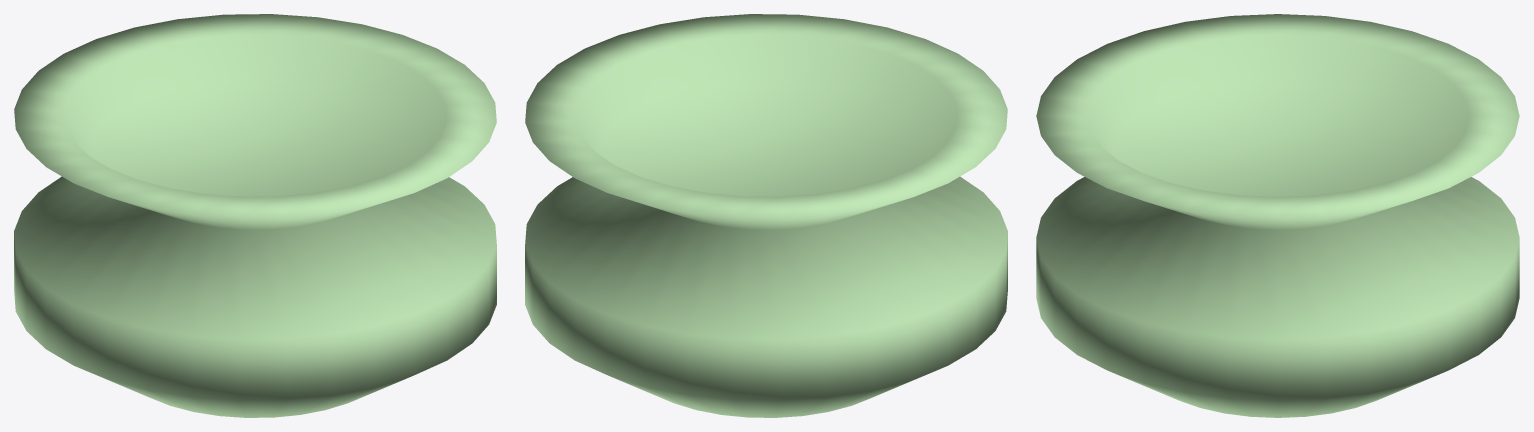
The model's file is Vase1.fbx.
3 views of the same model, side by side, from view 1: azimuth 30°, elevation 25°; view 2: azimuth 150°, elevation 25°; view 3: azimuth 270°, elevation 25° (orthographic).
Parts seen in each view (by area): view 1: Cylinder.006; view 2: Cylinder.006; view 3: Cylinder.006.
Boxes of the visible parts, box(x1,y1,x2,y2) form: Cylinder.006: box(14, 14, 496, 417); Cylinder.006: box(525, 14, 1007, 417); Cylinder.006: box(1036, 14, 1519, 417).
Bounding box in the file's own units: 38.08 × 21.11 × 38.08.
